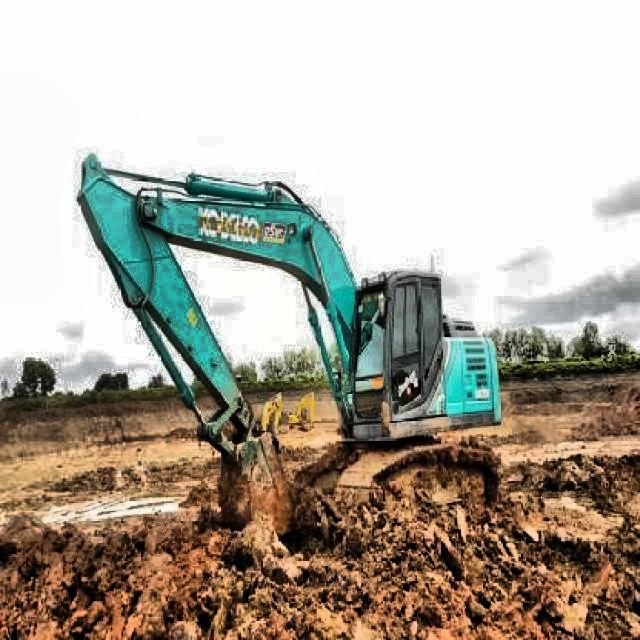excavator: (77, 152, 503, 598)
